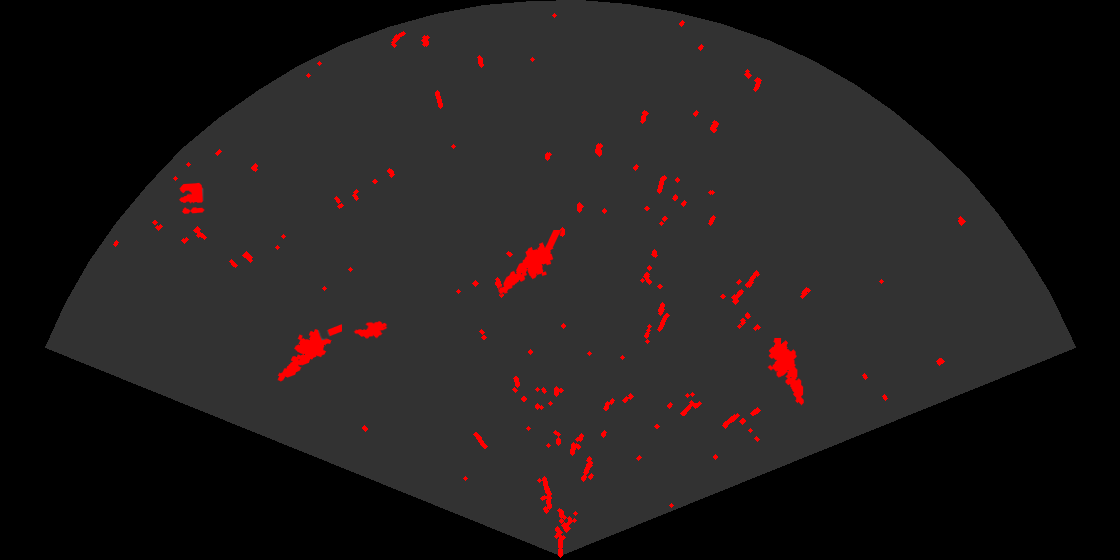AUV: (352, 320, 389, 339)
ball: (177, 181, 206, 215)
frogman: (497, 230, 562, 296), (276, 323, 342, 383), (766, 338, 805, 406)
